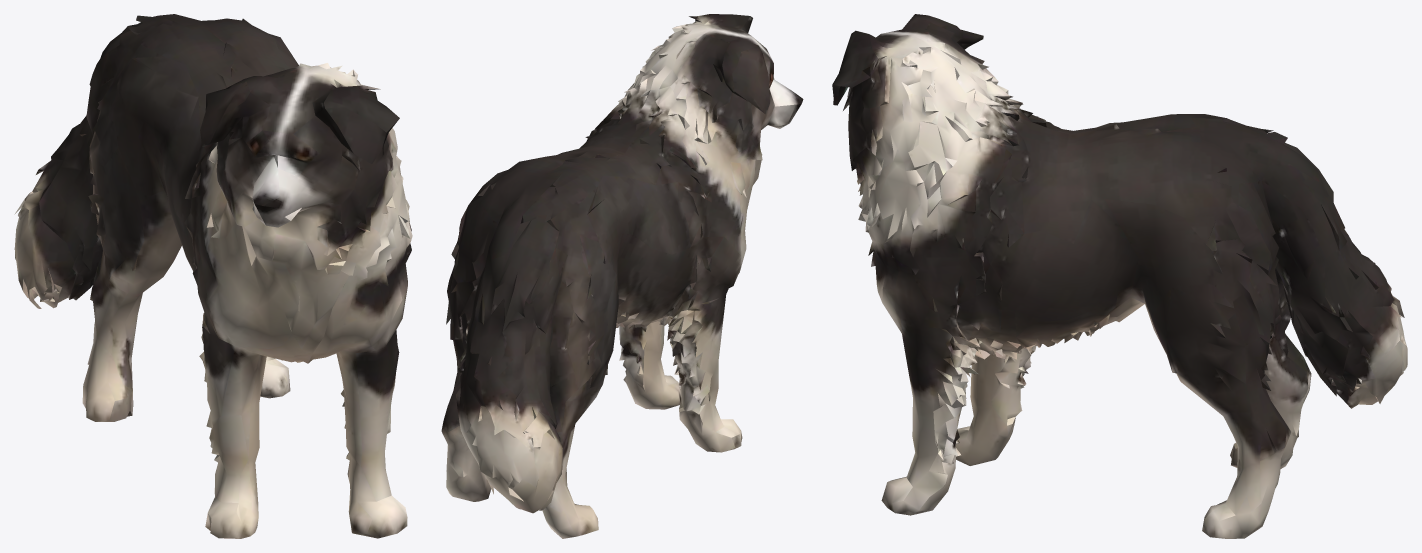
Rendered from collie.phone.glb.
3 renders of one model, left to right at view 1: azimuth 30°, elevation 25°; view 2: azimuth 150°, elevation 25°; view 3: azimuth 270°, elevation 25°, orthographic. The views are drawn at different scales.
Parts seen in each view (by area): view 1: collie.hy.raw; view 2: collie.hy.raw; view 3: collie.hy.raw.
Boxes of the visible parts, left/top/right/bottom form: collie.hy.raw: left=14, top=14, right=412, bottom=538; collie.hy.raw: left=441, top=14, right=803, bottom=538; collie.hy.raw: left=832, top=14, right=1407, bottom=538.
Size of the model in its own units: 0.3875 by 0.7493 by 0.8852.
Materials: 1 (1 with a texture image).
